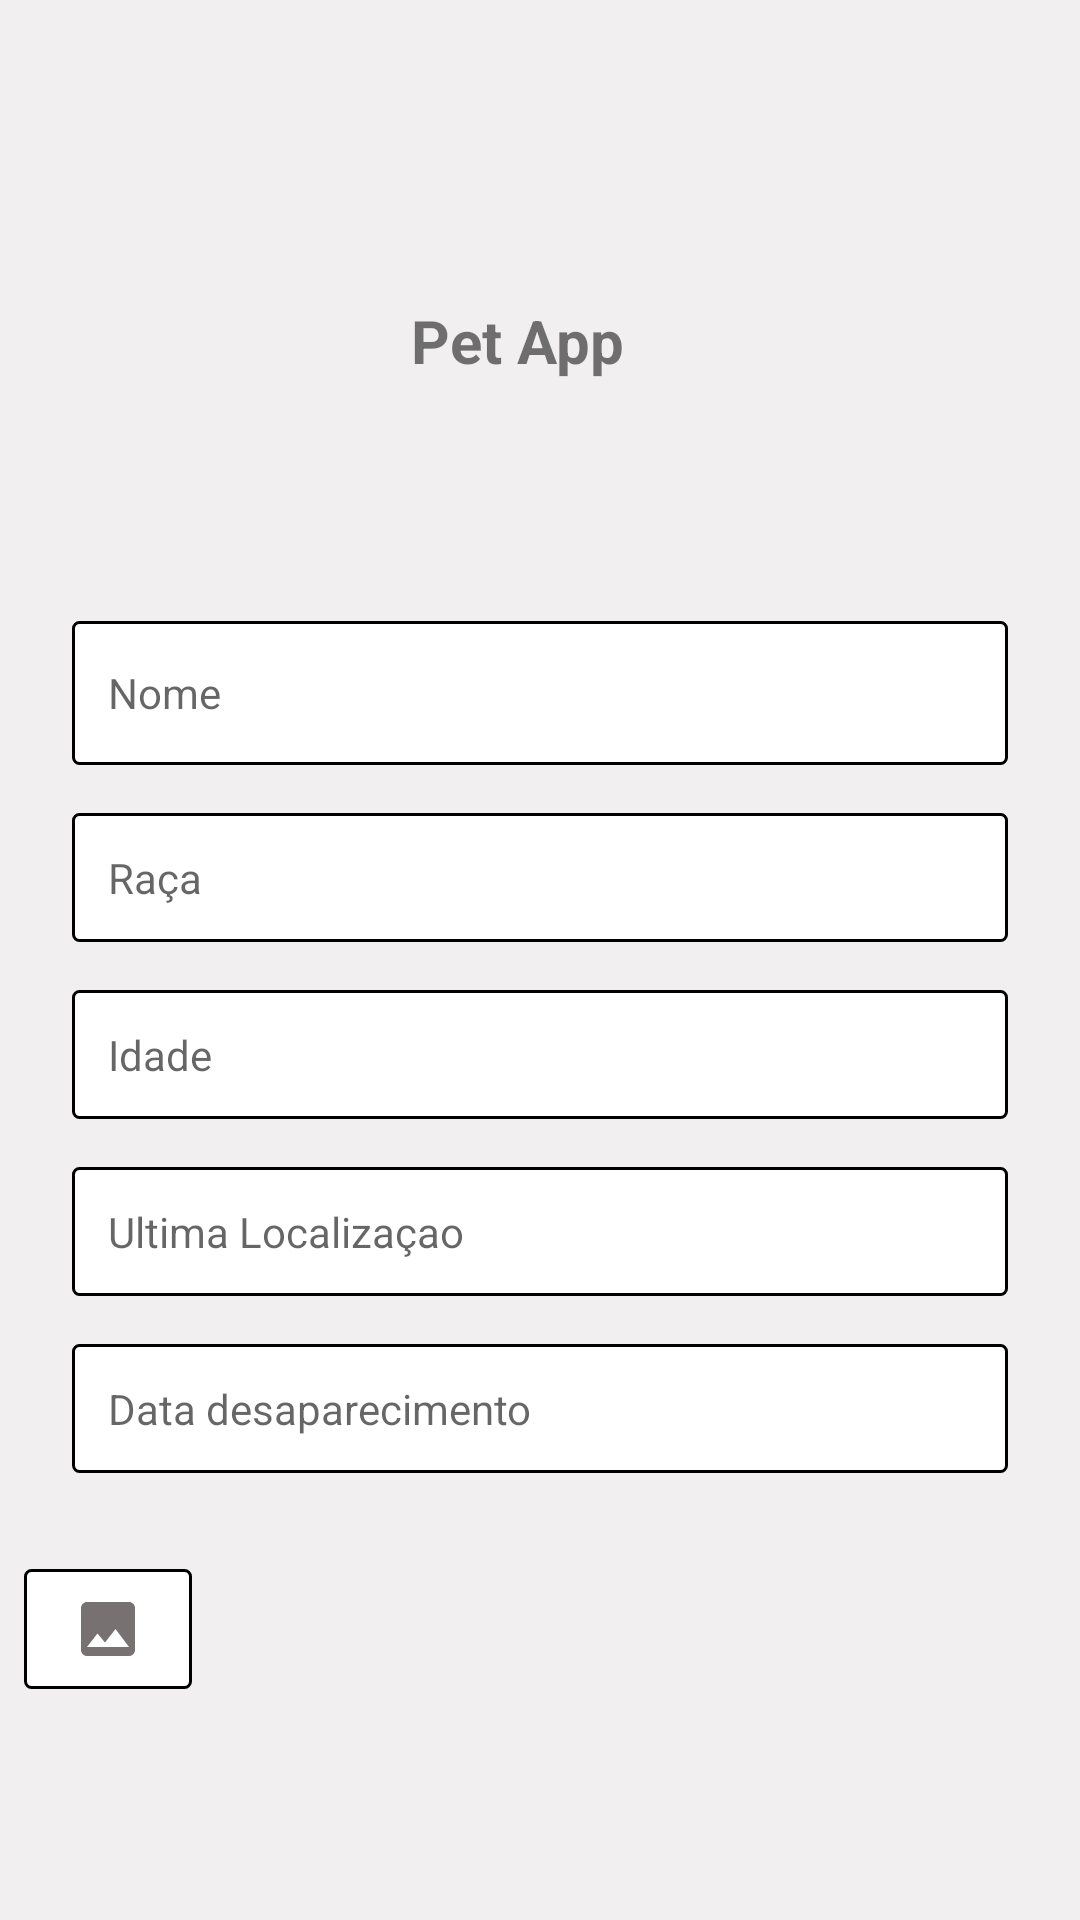

Where icons sit on this 1080*1920 app screen, as [x1, y1, x2, y2]:
insert photo: [24, 1569, 192, 1689]
